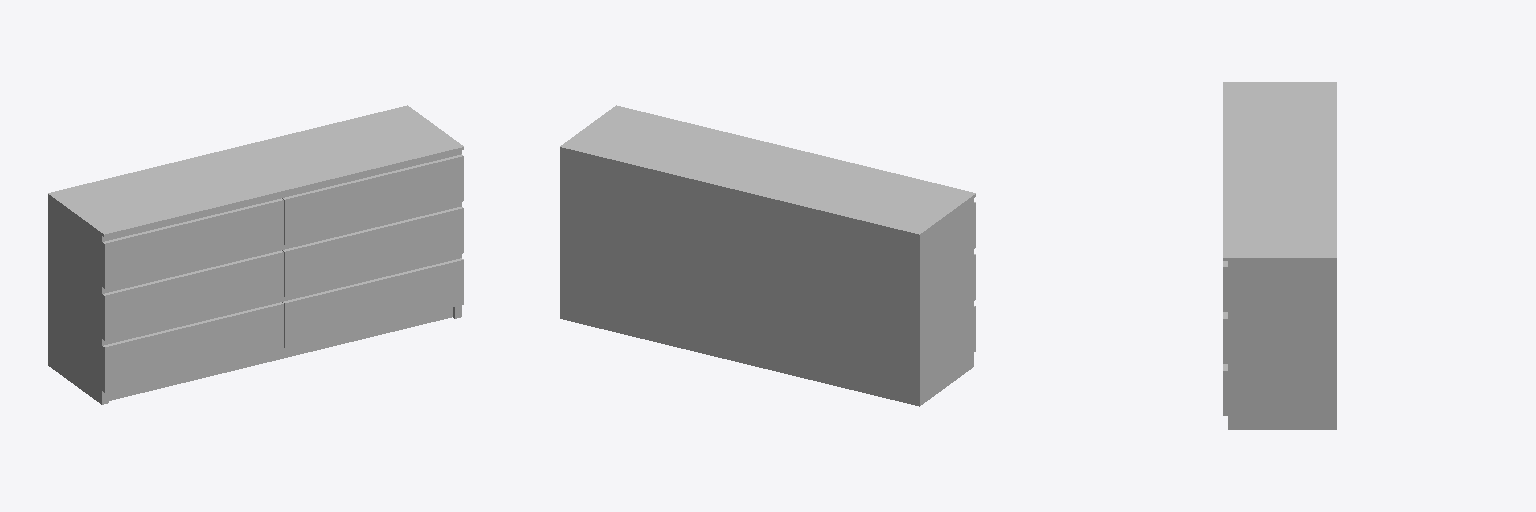
File: TRANBJERGx6.obj
3 views of the same model, side by side, from view 1: azimuth 30°, elevation 25°; view 2: azimuth 150°, elevation 25°; view 3: azimuth 270°, elevation 25° (orthographic).
Parts seen in each view (by area): view 1: Cube_Cube.001, Plane; view 2: Plane; view 3: Plane, Cube_Cube.001.
Part boxes in pixels (bbox=[...]): Cube_Cube.001: bbox=[102, 154, 463, 392]; Plane: bbox=[48, 105, 463, 404]; Plane: bbox=[560, 105, 975, 406]; Plane: bbox=[1223, 82, 1336, 429]; Cube_Cube.001: bbox=[1223, 261, 1227, 415].
Bounding box in the file's own units: 3.06 × 1.4 × 0.8336.